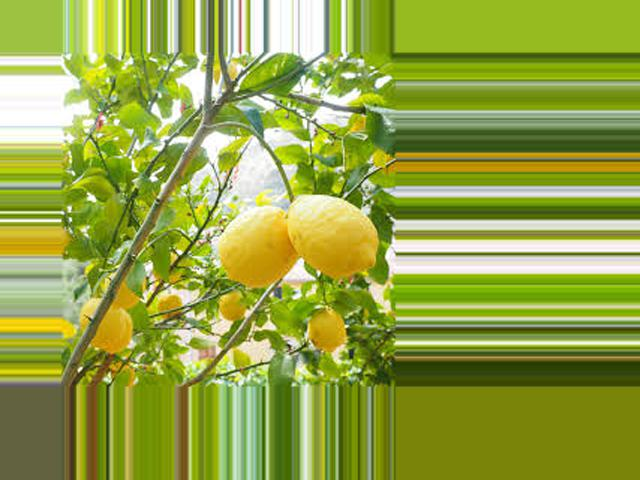lemon: (211, 196, 301, 298)
